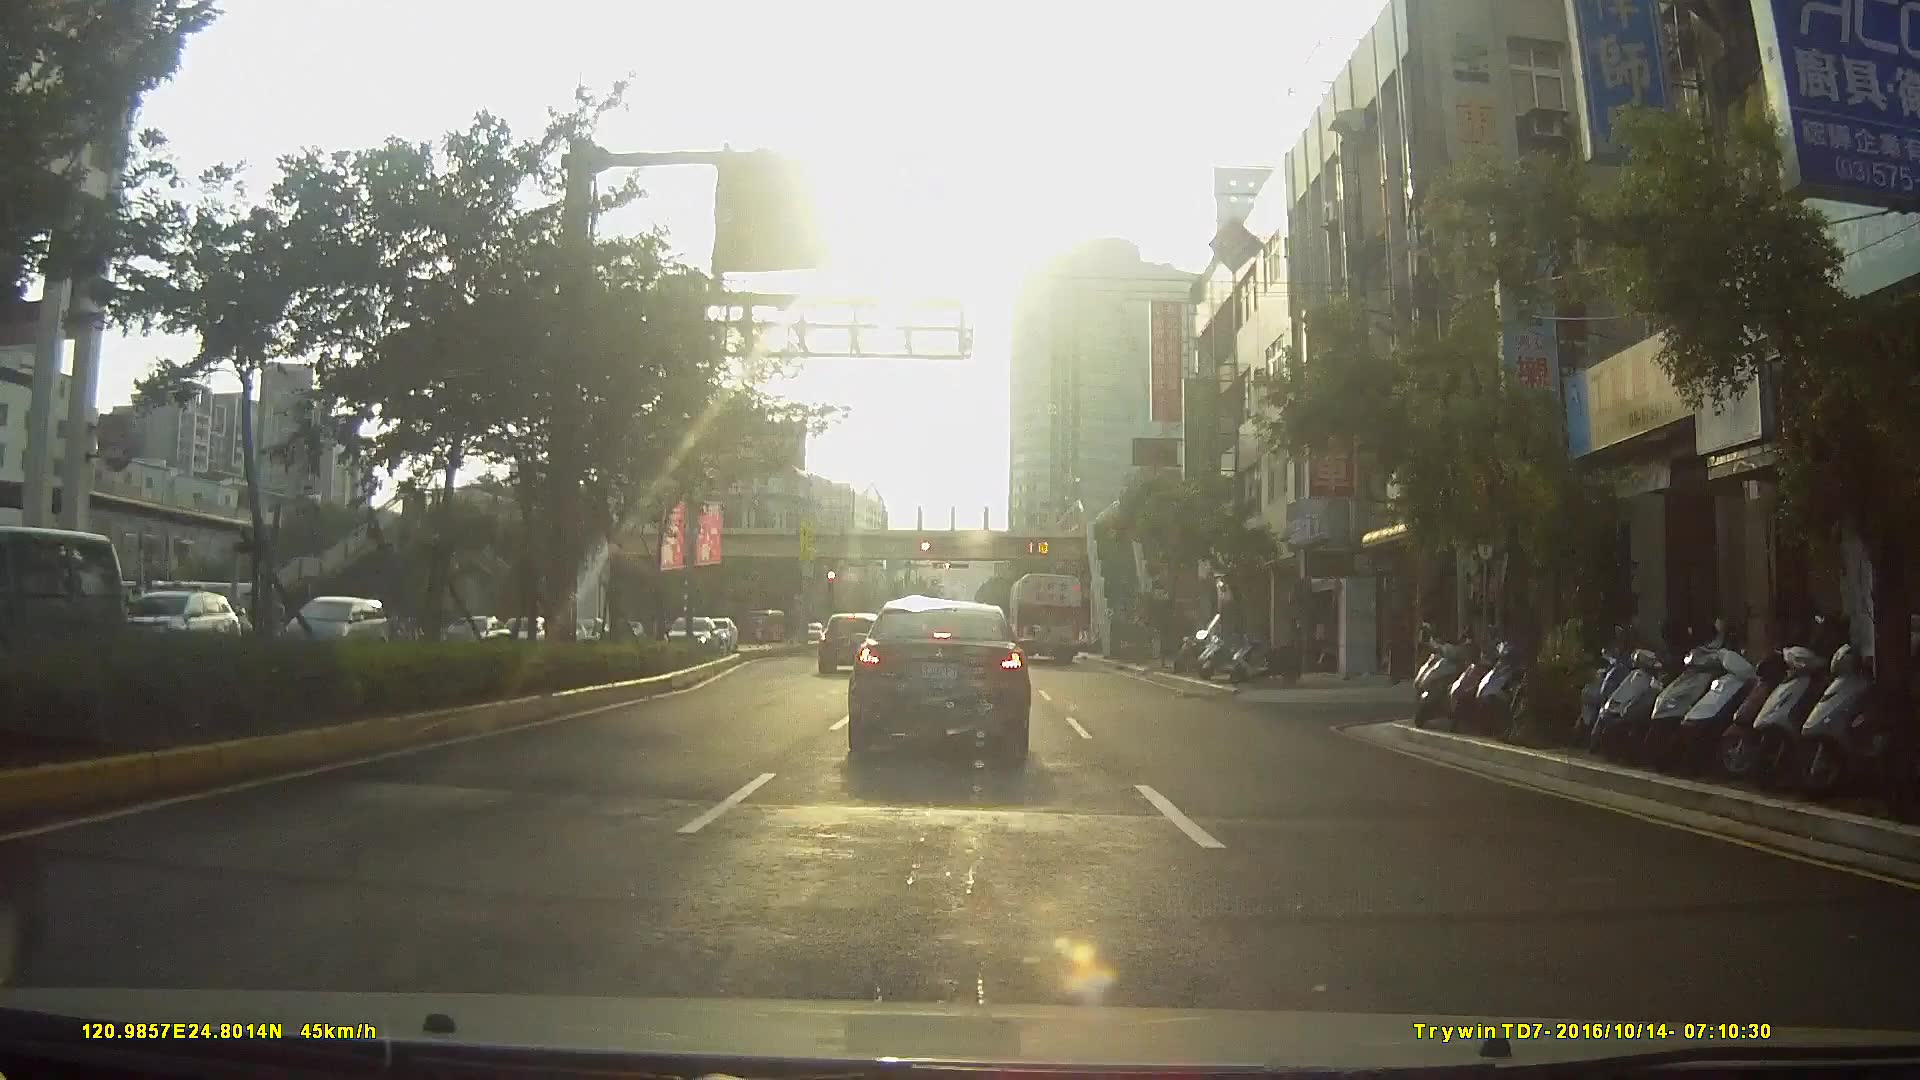vehicle: (845, 593, 1031, 757), (1, 524, 131, 684), (1005, 568, 1084, 663), (276, 592, 386, 655), (816, 607, 885, 675), (659, 611, 719, 651)
